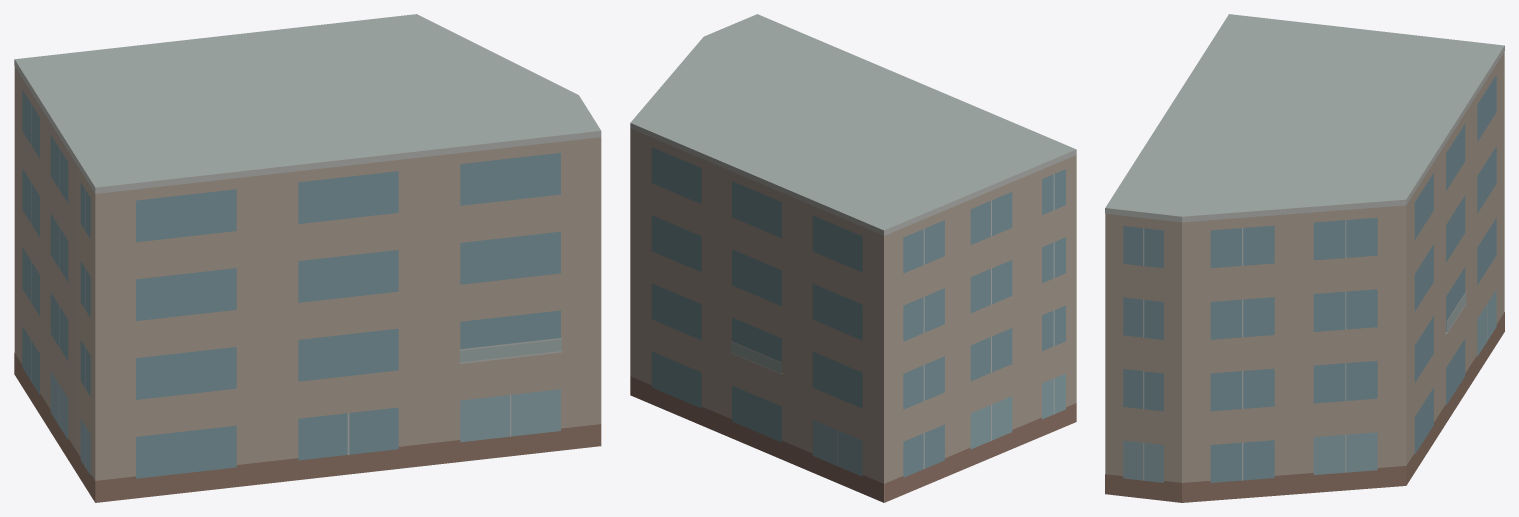
The model's file is residential-5fbdd518-8e7b-4289-a9d7-49bdac03f044.glb.
3 views of the same model, side by side, from view 1: azimuth 30°, elevation 25°; view 2: azimuth 150°, elevation 25°; view 3: azimuth 270°, elevation 25° (orthographic). The views are drawn at different scales.
Visible parts, largest first — view 1: residential-5fbdd518-8e7b-4289-a9d7-49bdac03f044.tmp; view 2: residential-5fbdd518-8e7b-4289-a9d7-49bdac03f044.tmp; view 3: residential-5fbdd518-8e7b-4289-a9d7-49bdac03f044.tmp.
Boxes of the visible parts, left/top/right/bottom form: residential-5fbdd518-8e7b-4289-a9d7-49bdac03f044.tmp: left=14, top=14, right=601, bottom=502; residential-5fbdd518-8e7b-4289-a9d7-49bdac03f044.tmp: left=630, top=14, right=1076, bottom=502; residential-5fbdd518-8e7b-4289-a9d7-49bdac03f044.tmp: left=1105, top=14, right=1504, bottom=502.
Bounding box in the file's own units: 18.54 × 12.2 × 15.45.
